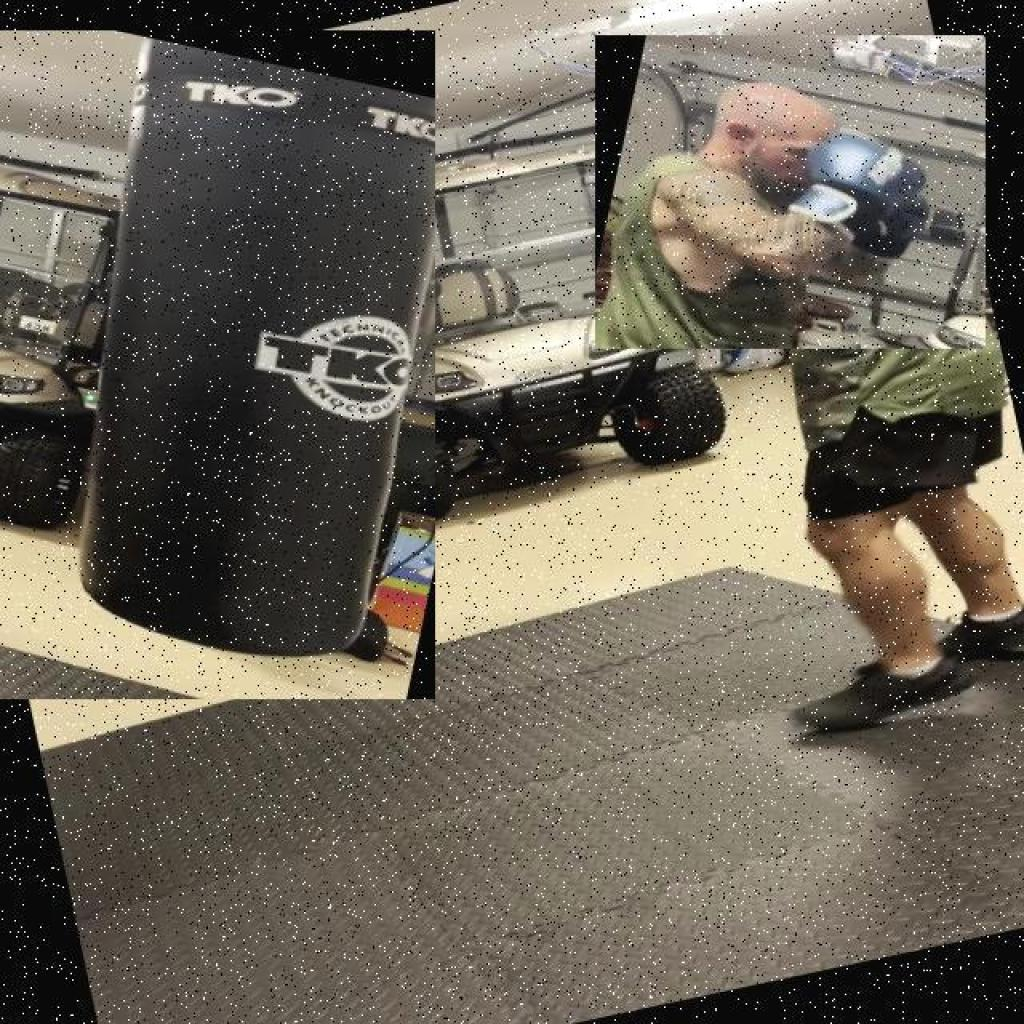bag: (0, 30, 434, 699)
no punch: (596, 35, 986, 348)
